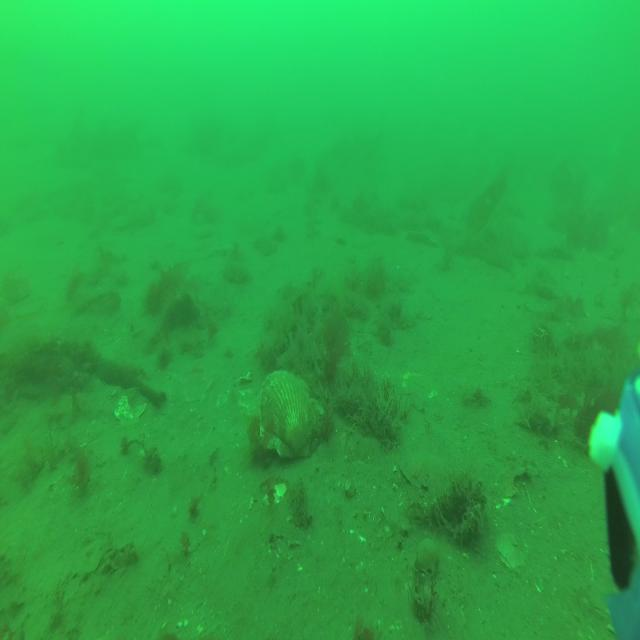scallop: (256, 366, 326, 465)
